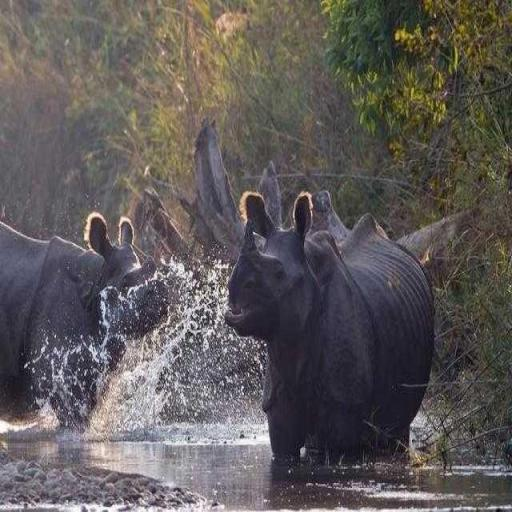Rhino: (223, 188, 436, 464), (0, 210, 180, 434)
